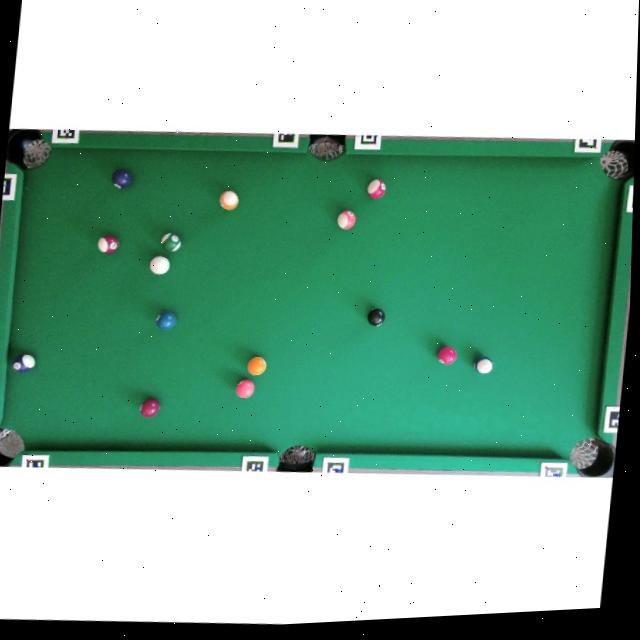cue ball: (149, 254, 170, 275)
other: (96, 232, 121, 256), (10, 352, 35, 374), (110, 167, 133, 189), (245, 355, 267, 377), (217, 189, 239, 211), (160, 231, 182, 253), (154, 309, 177, 330), (435, 345, 457, 366), (234, 378, 255, 399), (139, 397, 160, 418), (366, 177, 386, 199), (336, 209, 356, 230), (366, 306, 386, 326), (473, 355, 493, 375)
